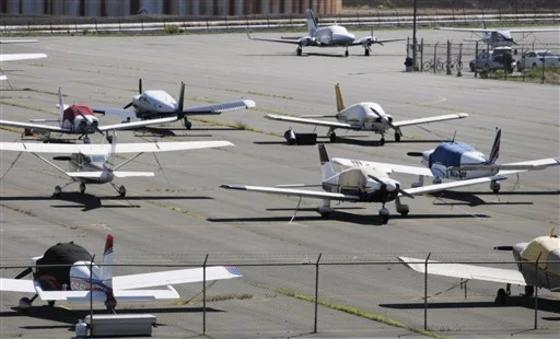Airplane: (213, 140, 510, 228), (0, 234, 250, 312), (329, 125, 560, 194), (0, 137, 233, 201), (265, 84, 467, 145), (397, 236, 559, 306), (0, 93, 185, 142), (88, 75, 255, 128), (248, 9, 399, 56), (440, 22, 559, 50)
